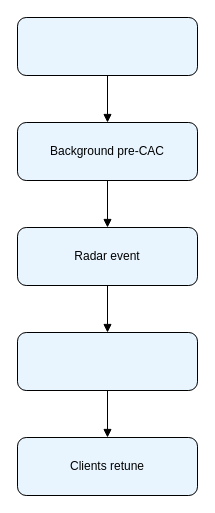
This 215x513 diagram has some shape labels left out. The shapes that lost their labels are listed below. From the top down, each one's centre as x and y in pixels, then its label:
point 107,46: Active DFS
point 107,361: Backup channel
